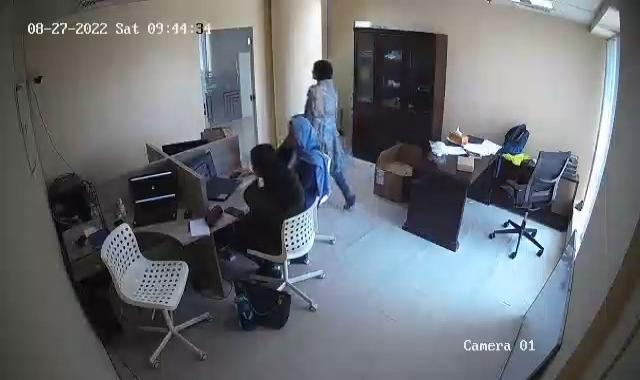no_hairnet: (286, 117, 322, 153), (248, 141, 276, 173), (310, 57, 335, 87)
